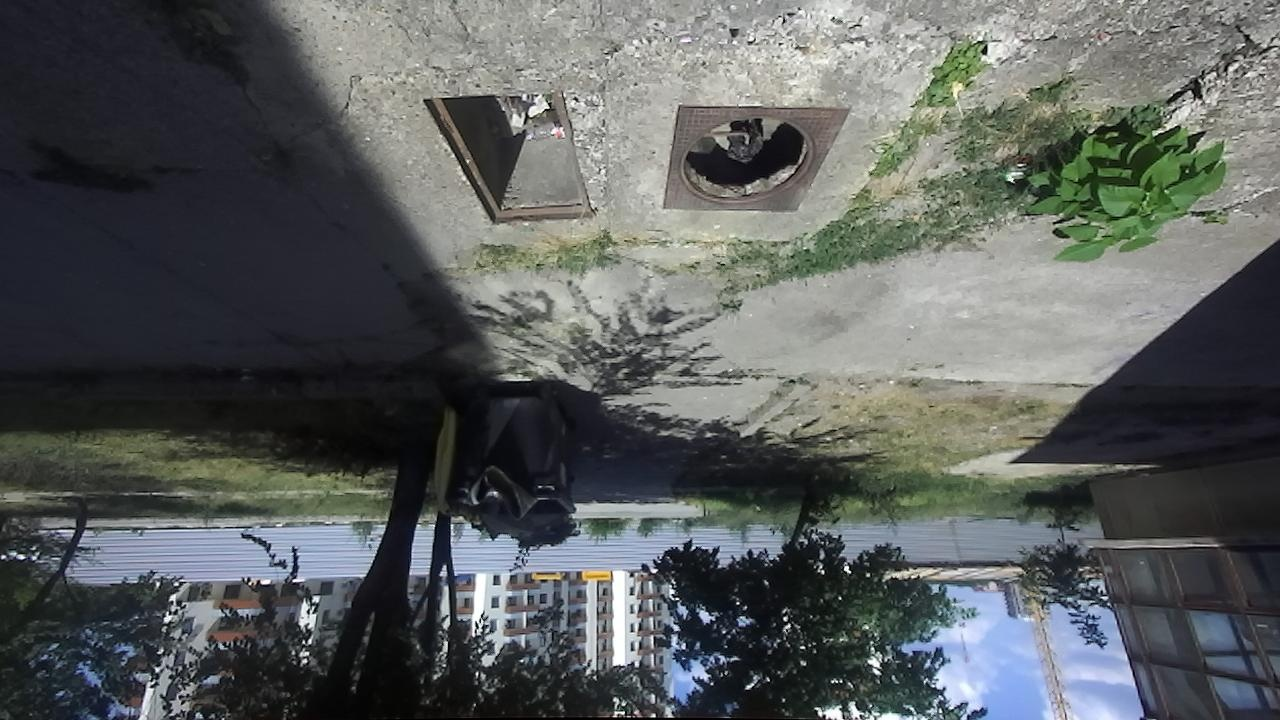drain: (418, 90, 599, 227), (679, 111, 825, 206)
